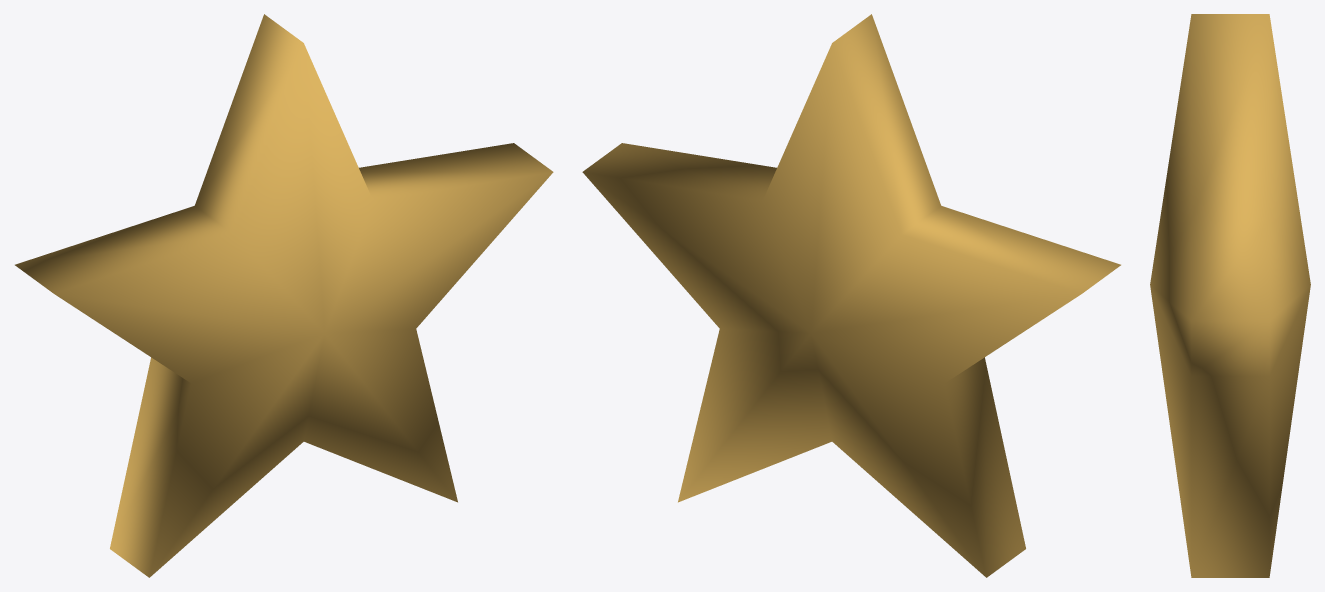
File: star.glb
3 renders of one model, left to right at view 1: azimuth 30°, elevation 25°; view 2: azimuth 150°, elevation 25°; view 3: azimuth 270°, elevation 25°, orthographic.
Parts seen in each view (by area): view 1: Gold star; view 2: Gold star; view 3: Gold star.
Boxes of the visible parts, x1=… form: Gold star: x1=15, y1=14, x2=553, y2=577; Gold star: x1=582, y1=14, x2=1120, y2=577; Gold star: x1=1150, y1=14, x2=1310, y2=577.
Size of the model in its own units: 0.4945 by 0.4703 by 0.14.
